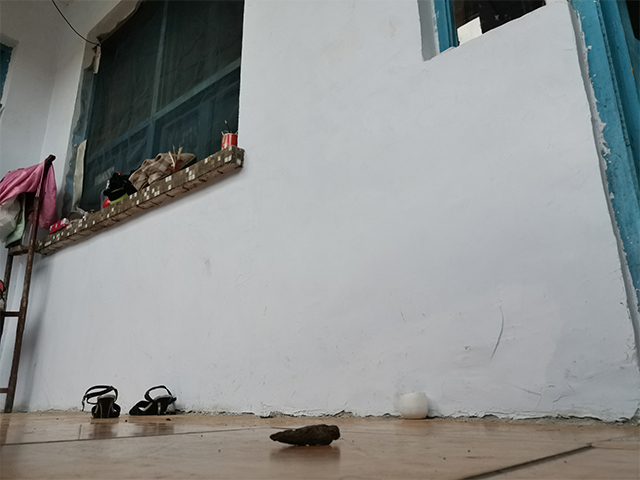feces: (268, 423, 342, 448)
